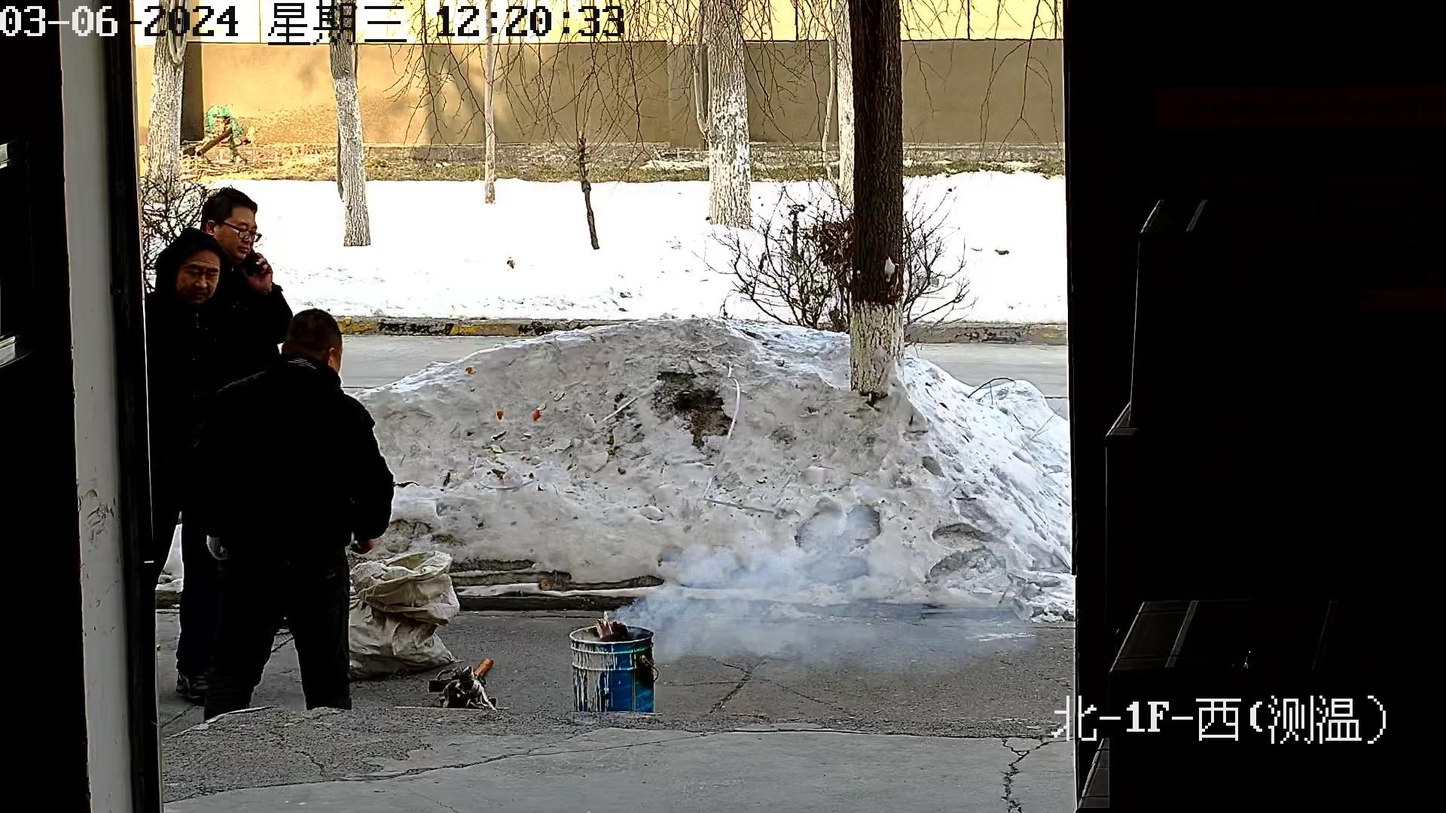smoke: (617, 497, 1071, 662)
